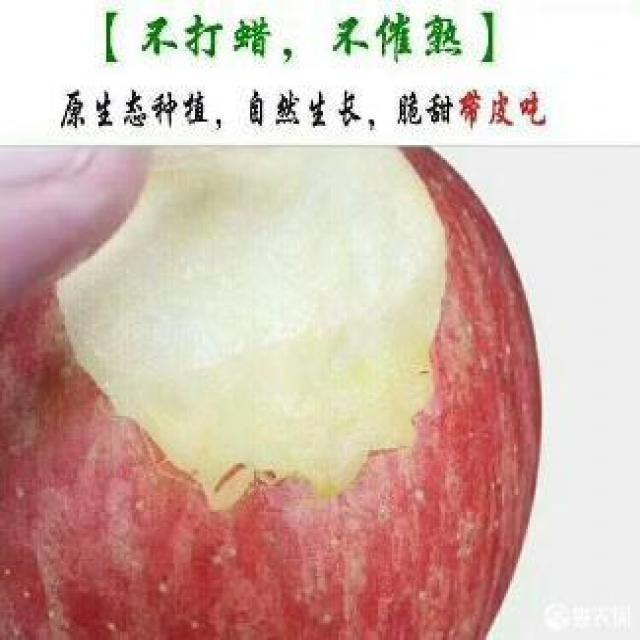Apple: (2, 140, 548, 640)
